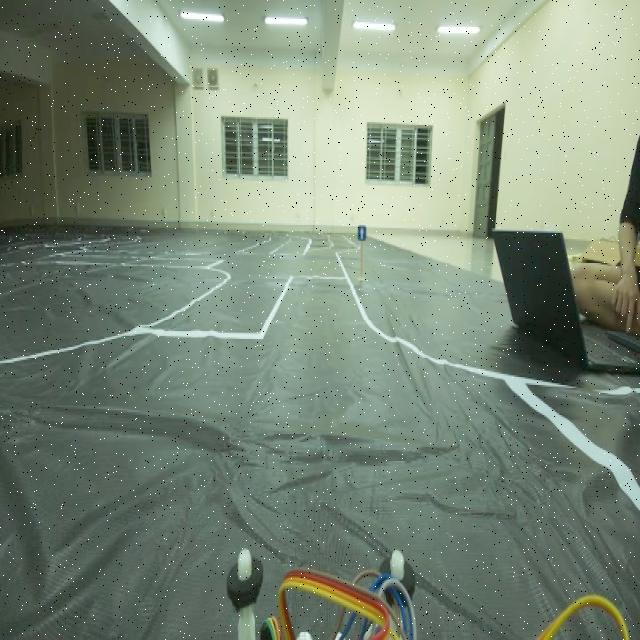onewayroad: (353, 220, 370, 242)
